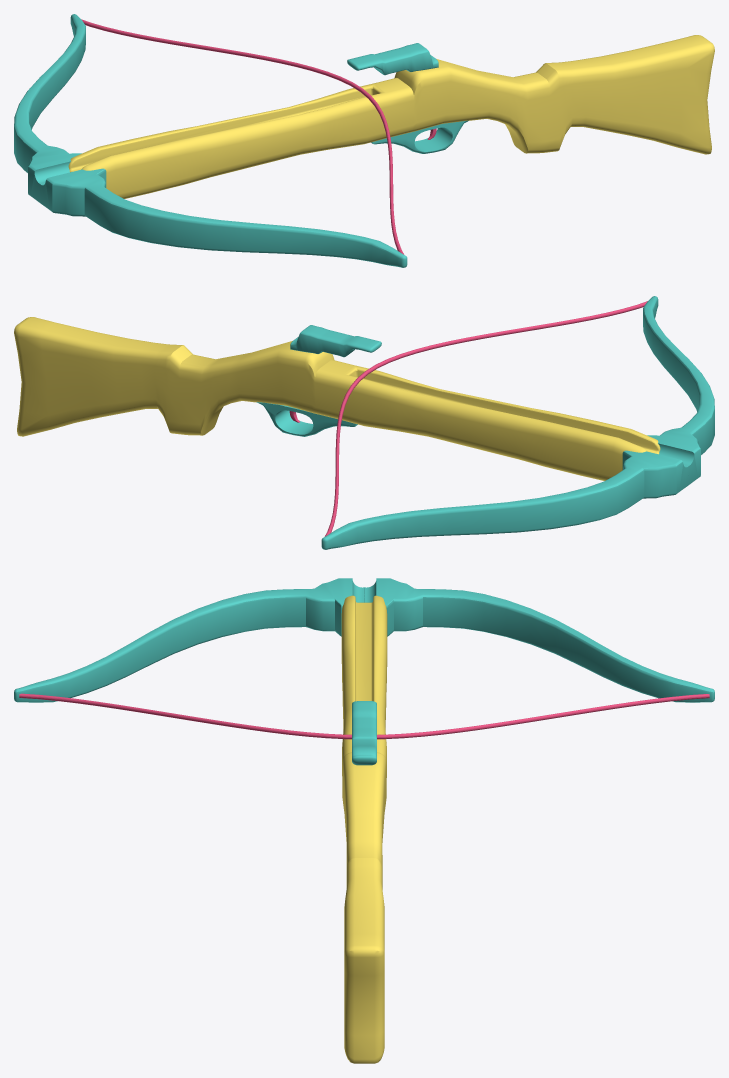
The model's file is crossbow.fbx.
3 renders of one model, top to bottom at view 1: azimuth 30°, elevation 25°; view 2: azimuth 150°, elevation 25°; view 3: azimuth 270°, elevation 25°, orthographic. The views are drawn at different scales.
Visible parts, largest first — view 1: crossbow, Cube.002, Cylinder, Cube.003, Cube.001; view 2: crossbow, Cube.002, Cylinder, Cube.003, Cube.001; view 3: Cube.002, crossbow, Cylinder, Cube.003.
Part boxes in pixels (left/top/right/bottom): crossbow: left=68, top=35, right=714, bottom=198; Cube.002: left=14, top=14, right=407, bottom=267; Cylinder: left=81, top=19, right=403, bottom=254; Cube.003: left=347, top=43, right=438, bottom=75; Cube.001: left=371, top=120, right=468, bottom=153; crossbow: left=14, top=317, right=660, bottom=480; Cube.002: left=321, top=296, right=714, bottom=549; Cylinder: left=325, top=301, right=647, bottom=536; Cube.003: left=290, top=325, right=381, bottom=357; Cube.001: left=256, top=402, right=357, bottom=436; Cube.002: left=14, top=578, right=714, bottom=702; crossbow: left=341, top=595, right=387, bottom=1063; Cylinder: left=19, top=693, right=709, bottom=739; Cube.003: left=352, top=701, right=376, bottom=765.
Bounding box in the file's own units: 76.36 × 18.94 × 65.79.
